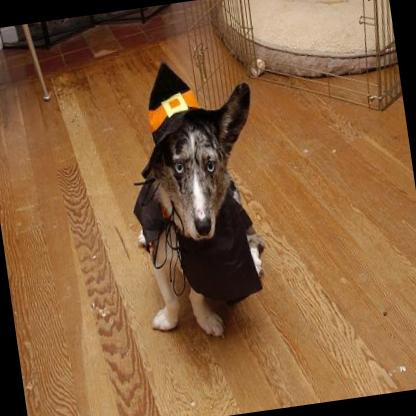Cardigan: (80, 24, 292, 352)
